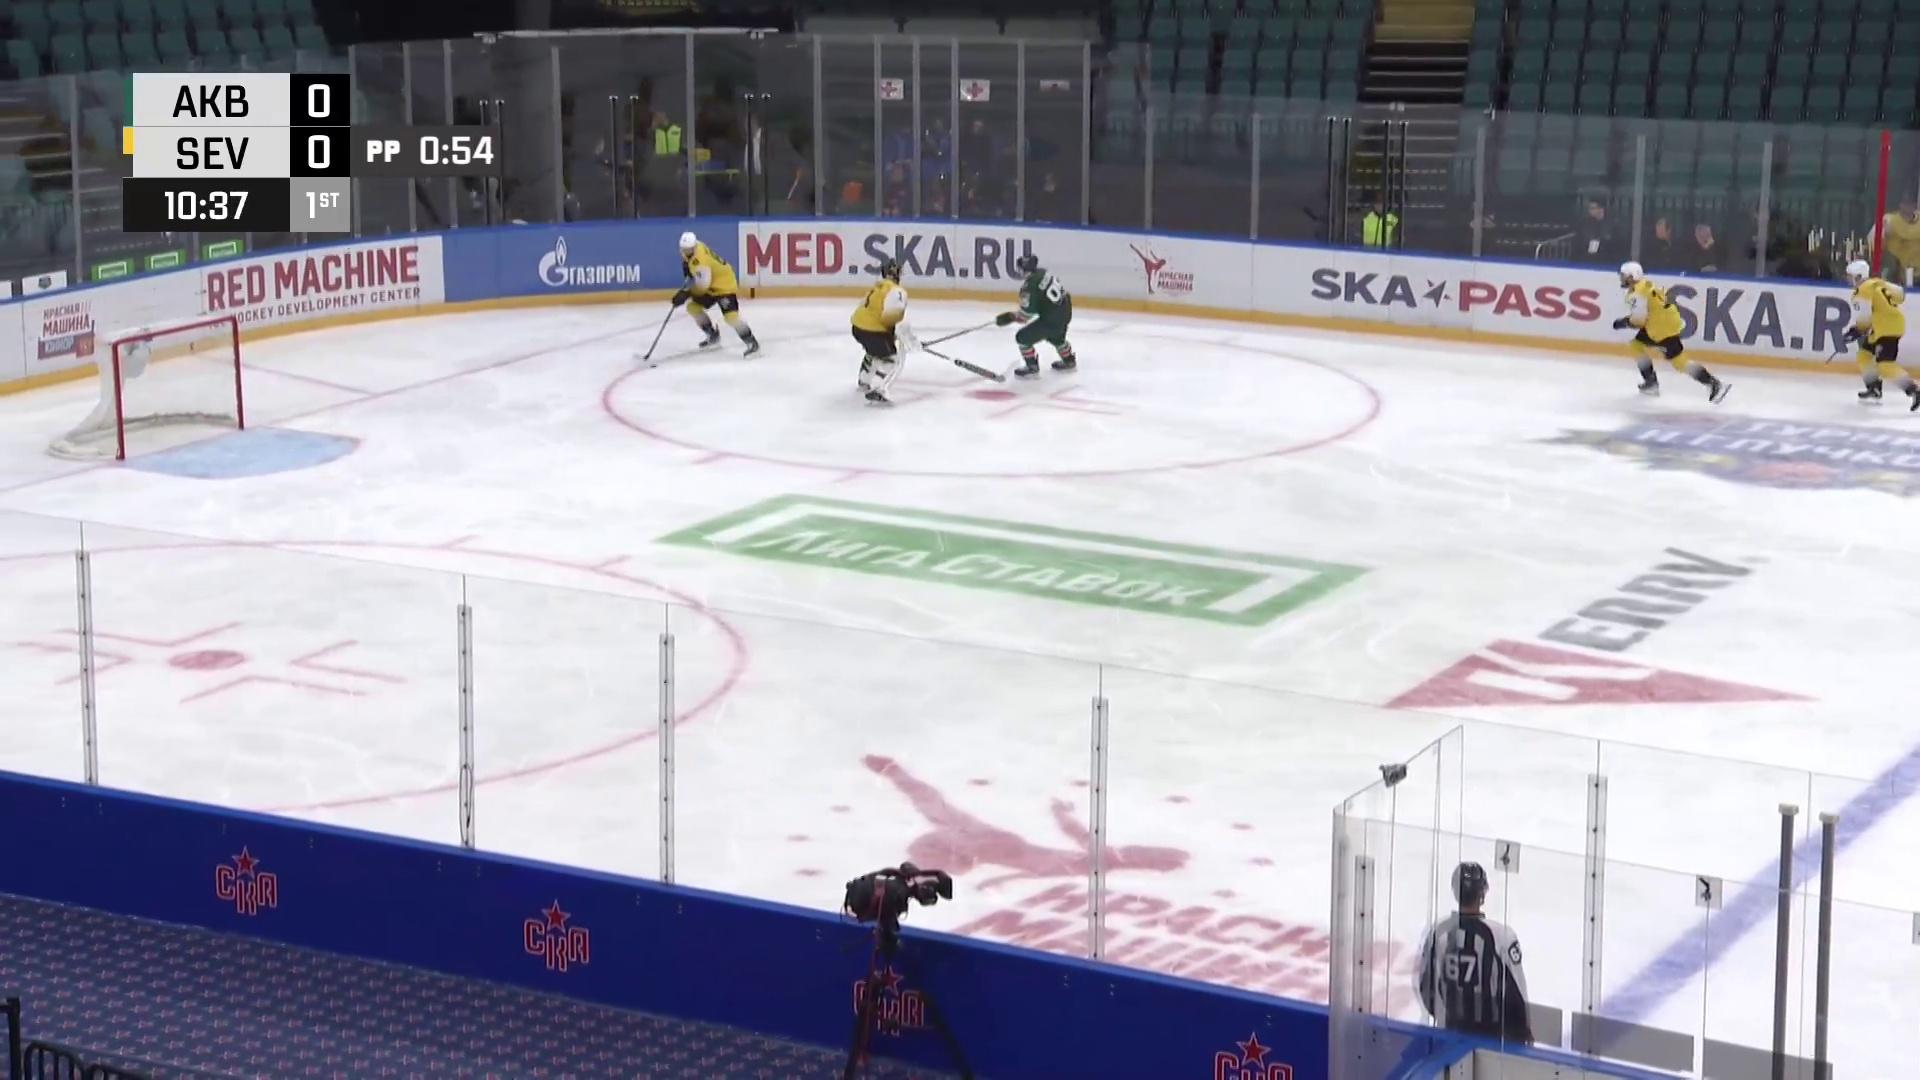ball: (649, 364, 657, 368)
